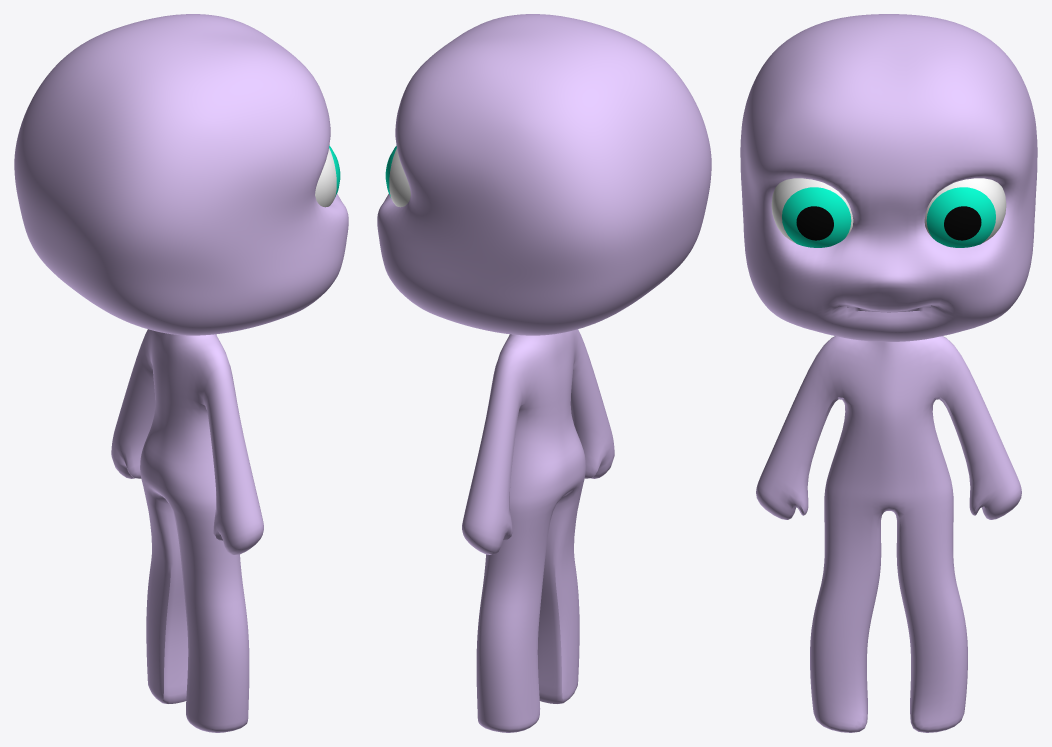
File: stickchild.fbx
The picture shows the model from 3 angles, left to right: view 1: azimuth 30°, elevation 25°; view 2: azimuth 150°, elevation 25°; view 3: azimuth 270°, elevation 25°; orthographic projection.
Parts seen in each view (by area): view 1: Cube.003; view 2: Cube.003; view 3: Cube.003.
Boxes of the visible parts, bbox=[...] form: Cube.003: bbox=[14, 14, 348, 732]; Cube.003: bbox=[377, 14, 711, 732]; Cube.003: bbox=[740, 14, 1037, 732].
Size of the model in its own units: 1507 by 3543 by 1392.
